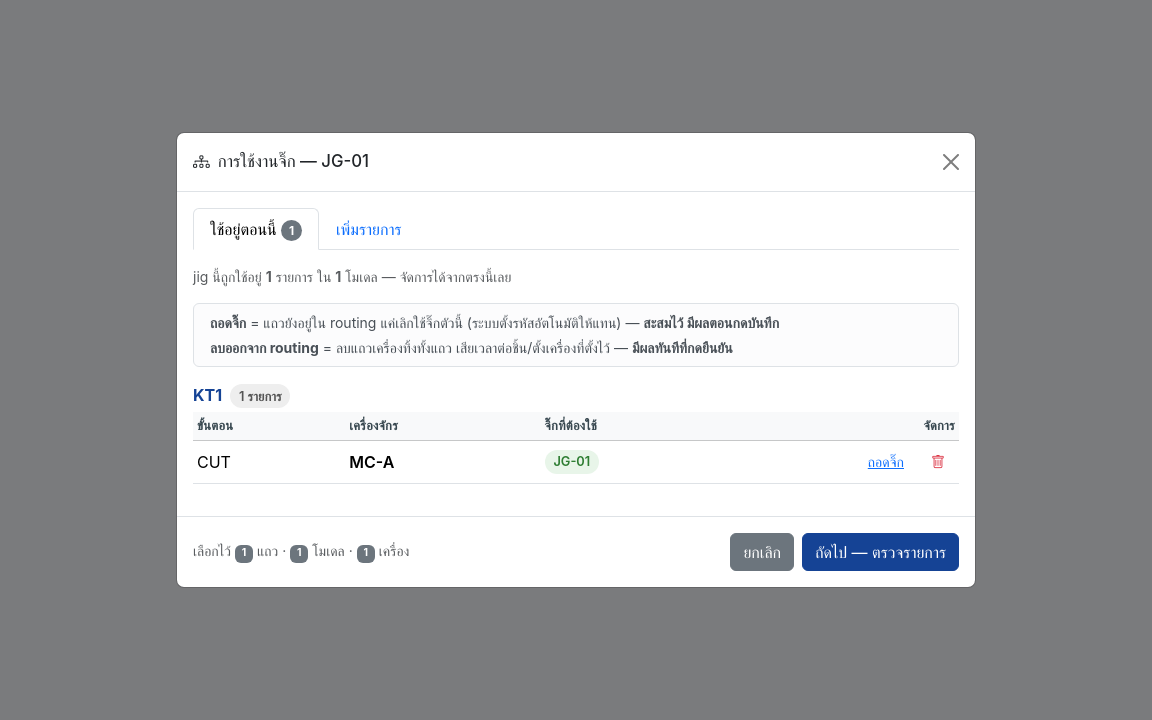
it: ทับ jig เดิม → หน้าสรุปต้องบอกชื่อเดิมและปลายทาง
Click the button "เพิ่มรายการ": (369, 229) [336,219,402,239]
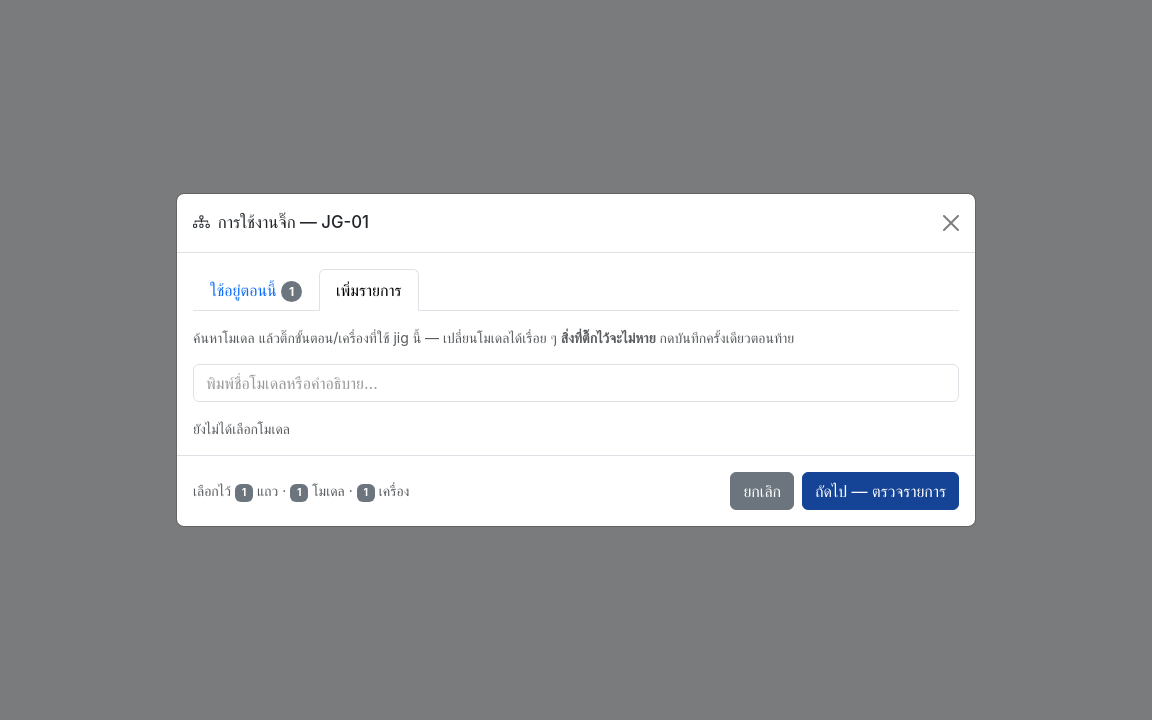
In the field with placeholder "พิมพ์ชื่อโมเดลหรือคำอธิบาย…": (576, 383) [193,364,959,402], type "KT1"
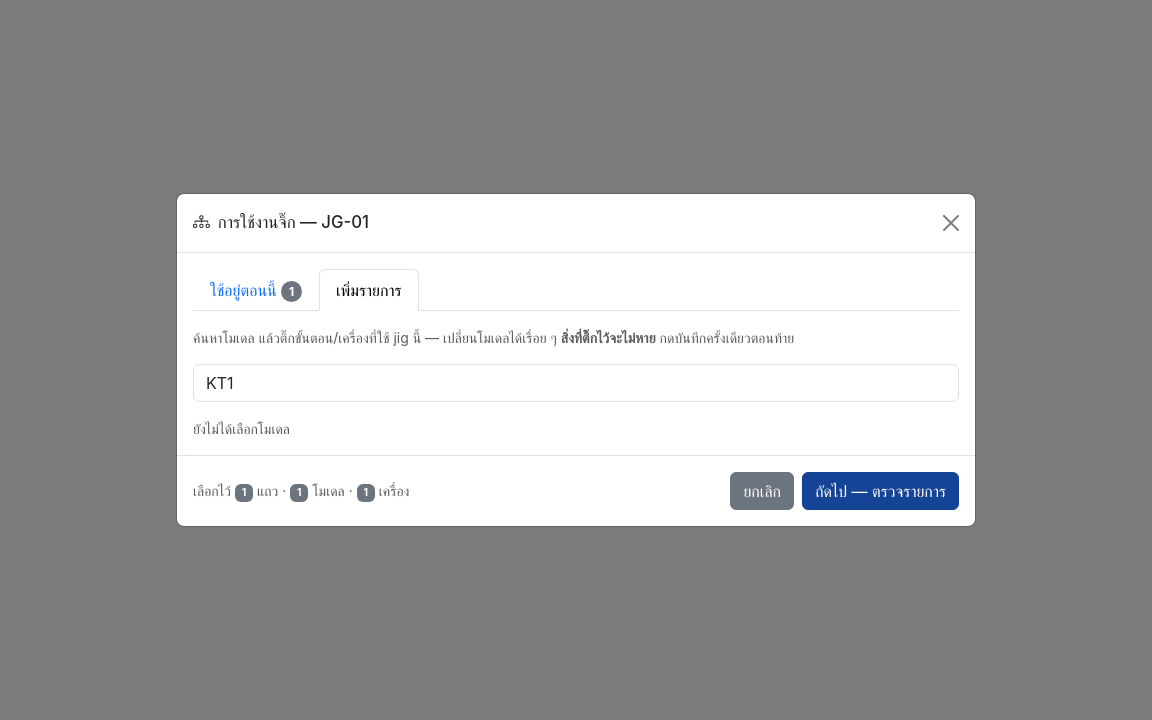
Press Enter in the field with placeholder "พิมพ์ชื่อโมเดลหรือคำอธิบาย…", box [193,364,959,402]
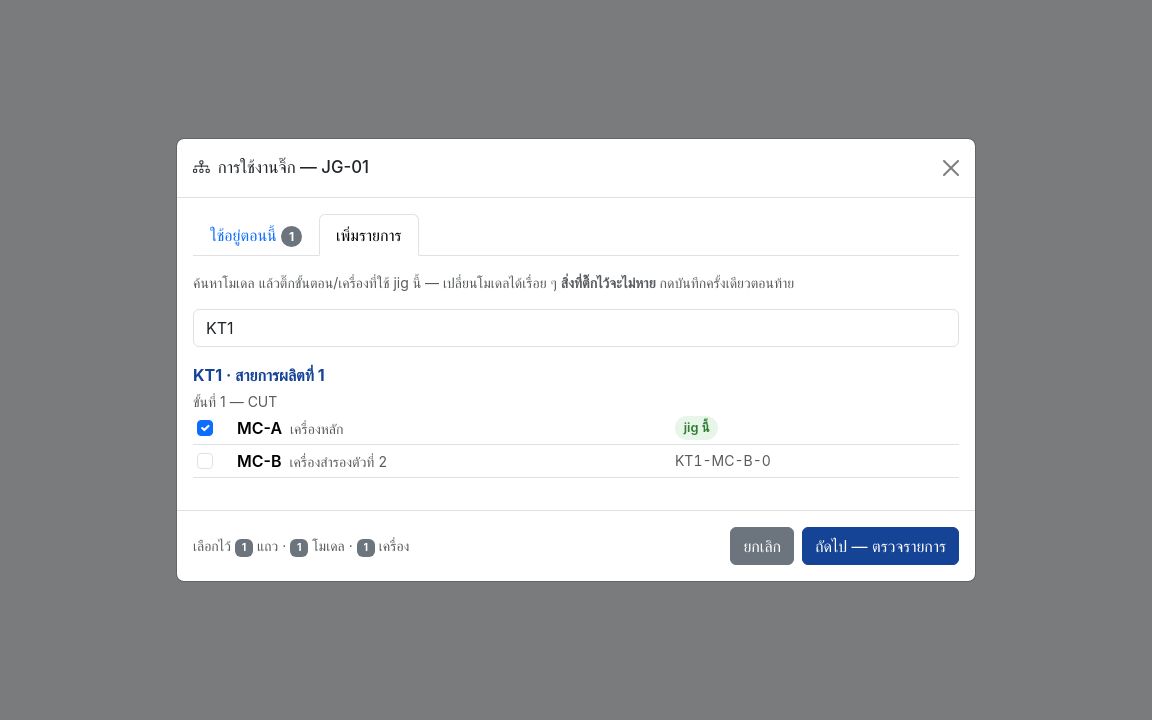
Click the checkbox named "เลือก MC-B ของ CUT": (205, 461) [197,453,213,469]
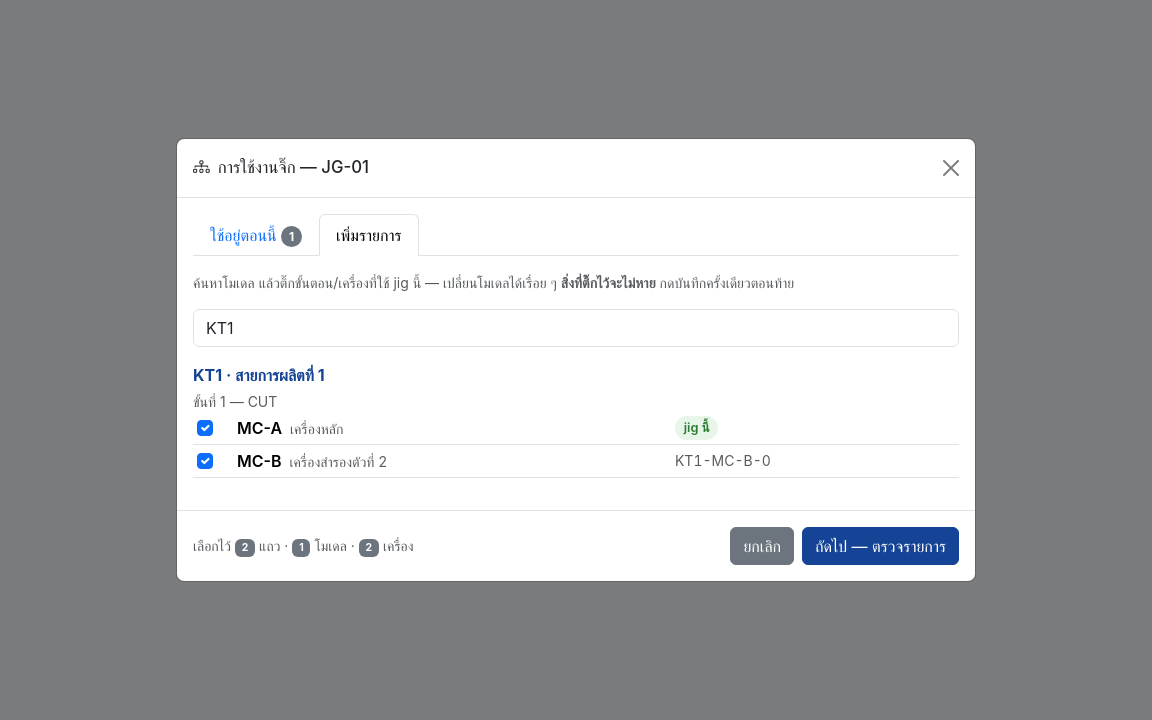
Click the button "ถัดไป — ตรวจรายการ": (881, 546) [802,527,959,565]
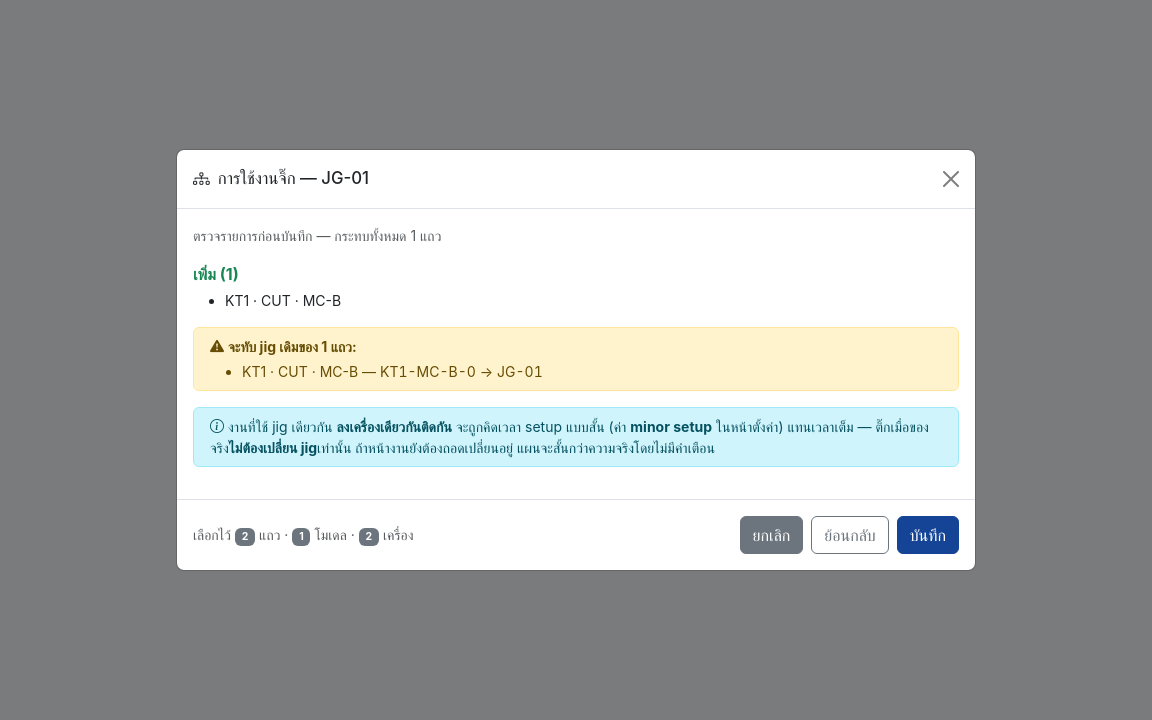
Now the text "จะทับ jig เดิมของ 1 แถว:" is shown, box [228,338,357,355]
